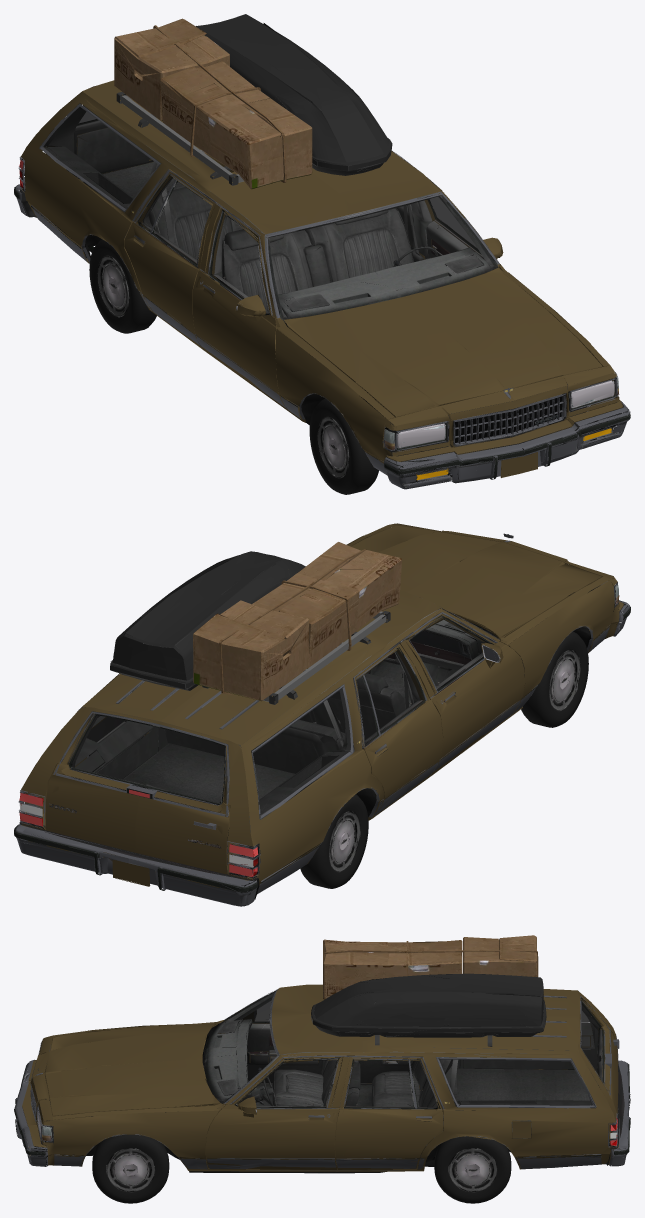
File: chevrolet-caprice-station-wagon-1998-ee2fd8.glb
3 views of the same model, one above another, from view 1: azimuth 30°, elevation 25°; view 2: azimuth 150°, elevation 25°; view 3: azimuth 270°, elevation 25° (orthographic). The views are drawn at different scales.
Visible parts, largest first — view 1: body, wheel-front-right, wheel-back-right; view 2: body, wheel-front-right, wheel-back-right; view 3: body, wheel-front-left, wheel-back-left.
Part boxes in pixels (x1,y1,x2,y2): body: (14,14,630,489); wheel-front-right: (309,398,378,494); wheel-back-right: (89,239,156,333); body: (14,523,630,906); wheel-front-right: (521,631,588,727); wheel-back-right: (300,794,368,888); body: (14,935,630,1192); wheel-front-left: (92,1134,169,1203); wheel-back-left: (434,1136,511,1203).
Size of the model in its own units: 1.81 by 1.69 by 4.7.
22 materials, 12 textured.
